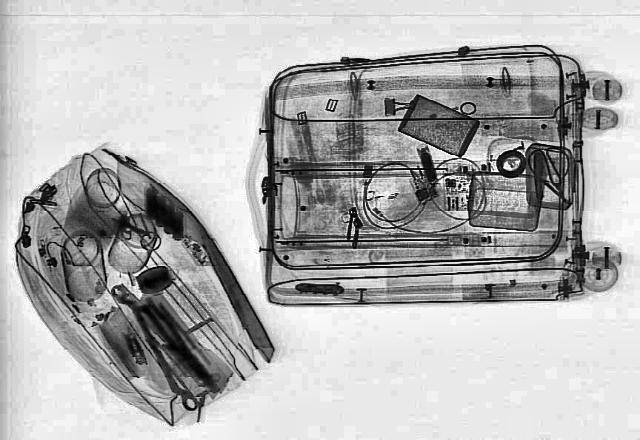Pliers: (139, 300, 223, 392)
Wrench: (105, 282, 205, 413)
